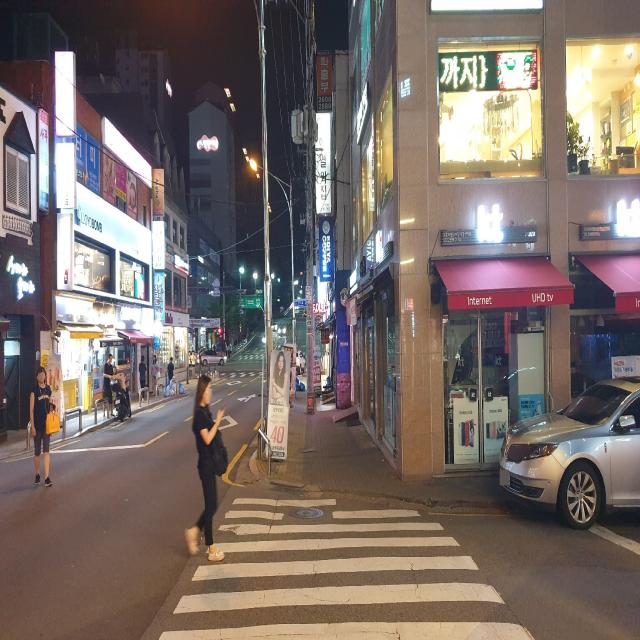횡단보도: (154, 494, 538, 640)
